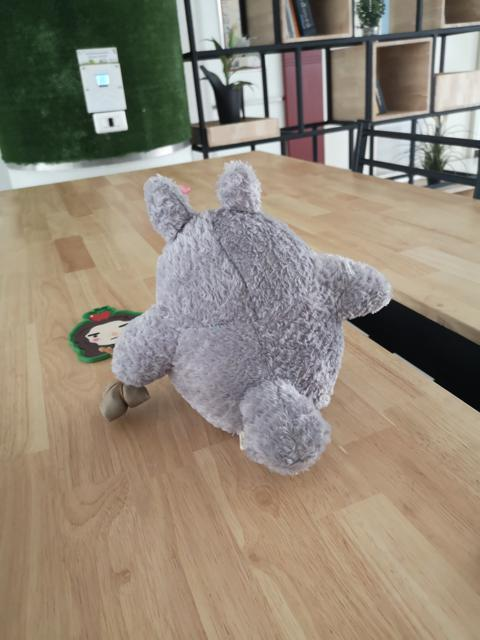totoro: (95, 155, 395, 481)
